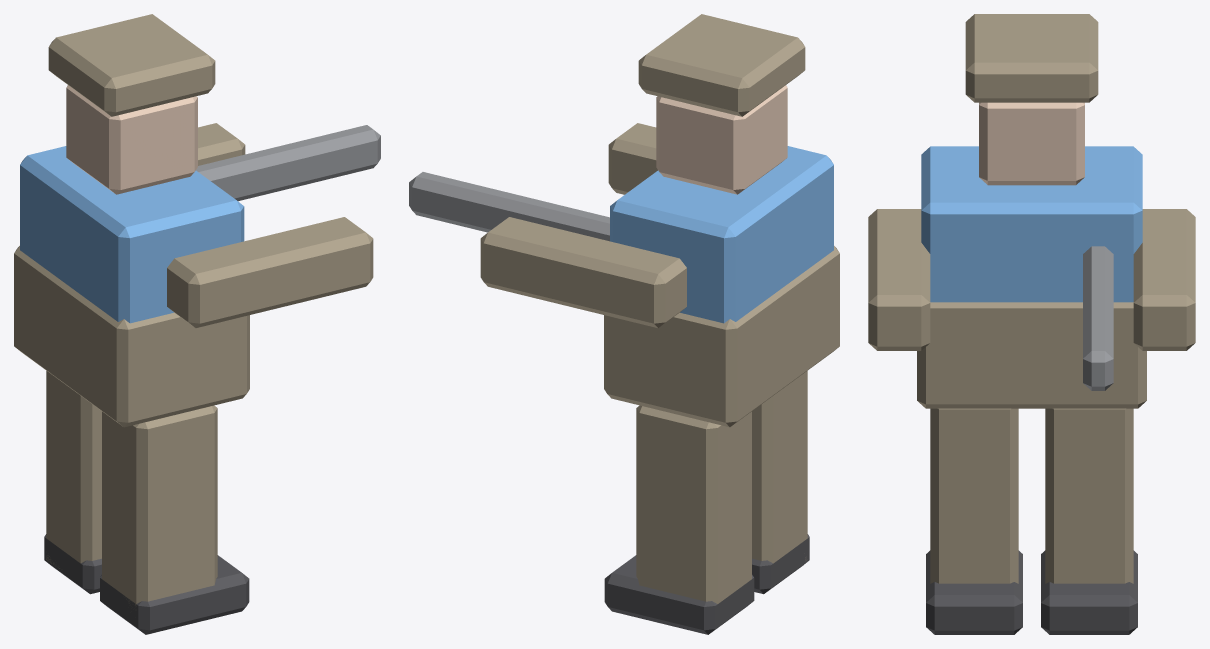
File: conscript.glb
The picture shows the model from 3 angles, left to right: view 1: azimuth 30°, elevation 25°; view 2: azimuth 150°, elevation 25°; view 3: azimuth 270°, elevation 25°; orthographic projection. The views are drawn at different scales.
Parts seen in each view (by area): view 1: conscript; view 2: conscript; view 3: conscript.
Part boxes in pixels (x1,y1,x2,y2): conscript: (14, 14, 380, 634); conscript: (409, 14, 839, 634); conscript: (868, 14, 1195, 634).
Bounding box in the file's own units: 0.93 × 1.41 × 0.74.
